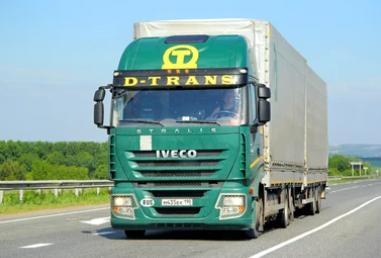vehicle: (94, 18, 328, 239)
